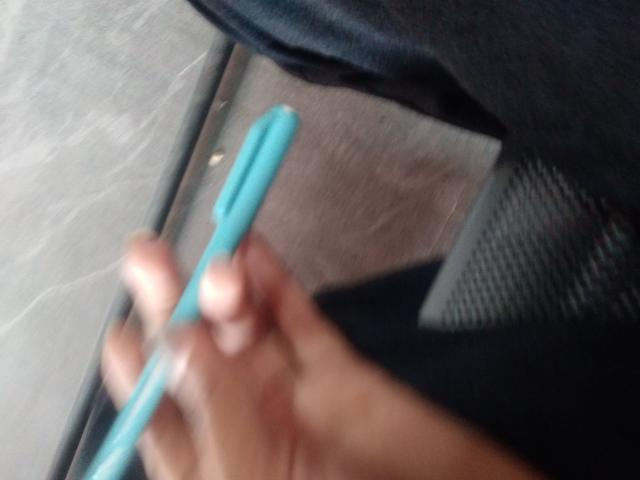PEN: (0, 77, 396, 319)
